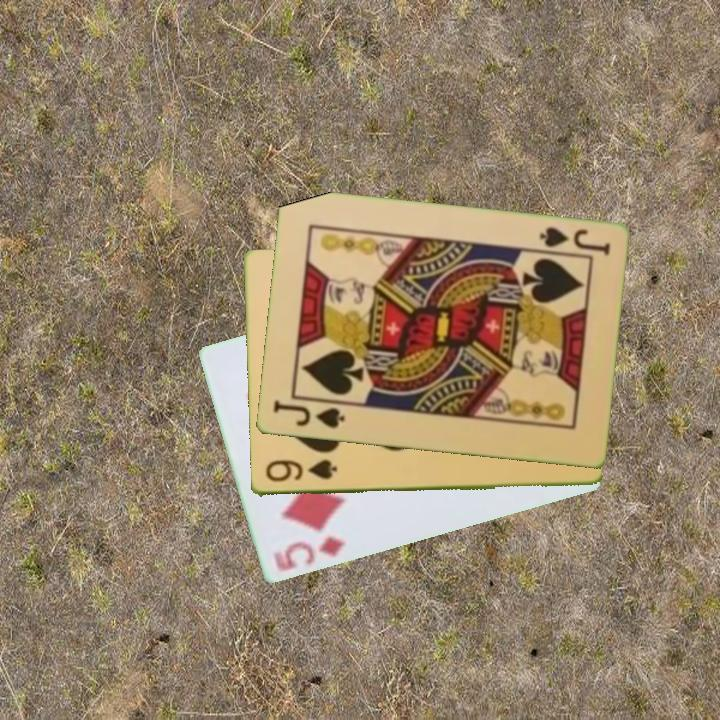5d: (269, 534, 348, 575)
9s: (262, 456, 340, 485)
Js: (269, 397, 347, 432), (535, 224, 612, 259)
